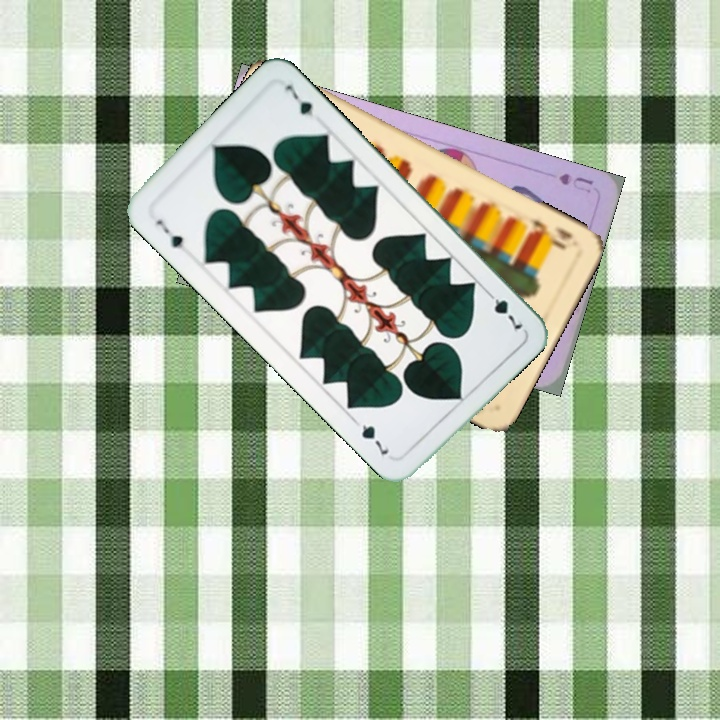E10: (525, 214, 576, 252)
G7: (481, 286, 526, 334), (152, 215, 190, 257)
SU: (554, 169, 596, 196)
